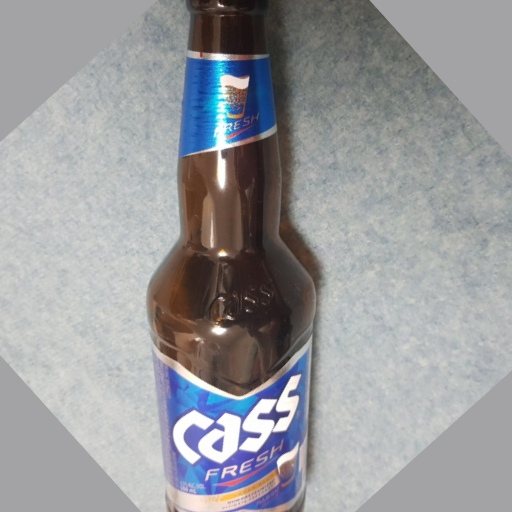Glass_1: (141, 1, 321, 512)
